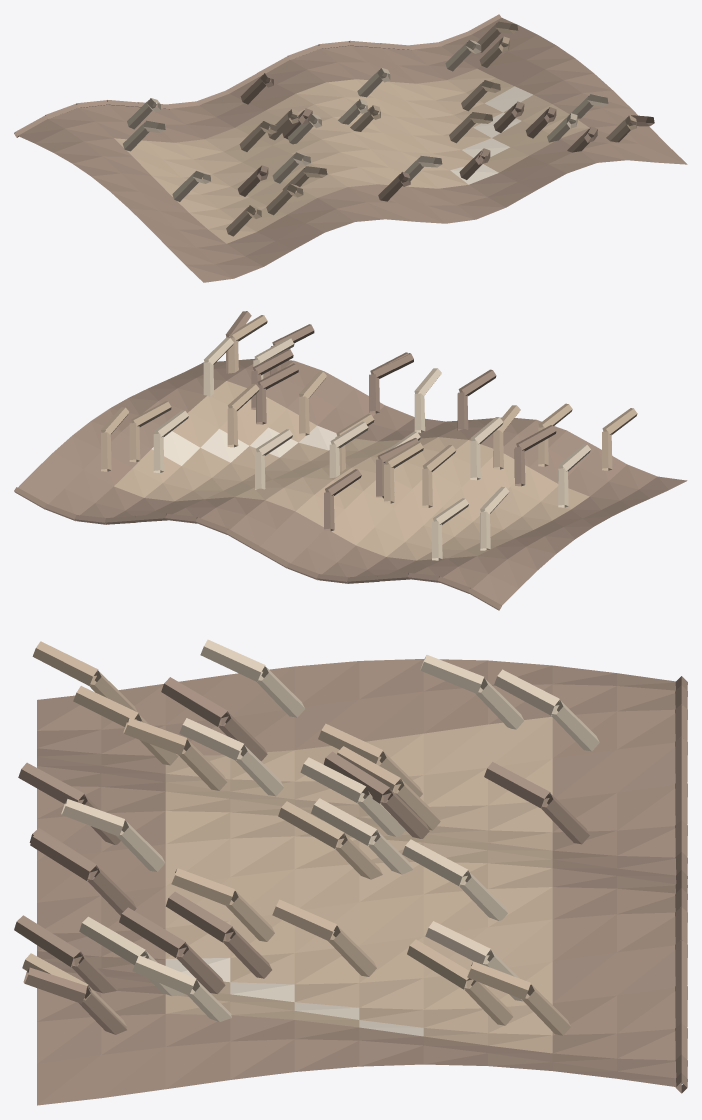
File: fur.glb
3 renders of one model, top to bottom at view 1: azimuth 30°, elevation 25°; view 2: azimuth 150°, elevation 25°; view 3: azimuth 270°, elevation 25°, orthographic. The views are drawn at different scales.
Visible parts, largest first — view 1: fur; view 2: fur; view 3: fur.
Boxes of the visible parts, <box> form: fur: <box>14,14,687,282</box>; fur: <box>14,311,687,610</box>; fur: <box>14,639,687,1105</box>.
Bounding box in the file's own units: 1.35 × 0.1767 × 0.9409.
